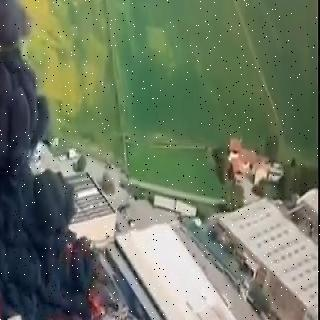smoke: (0, 0, 98, 244)
